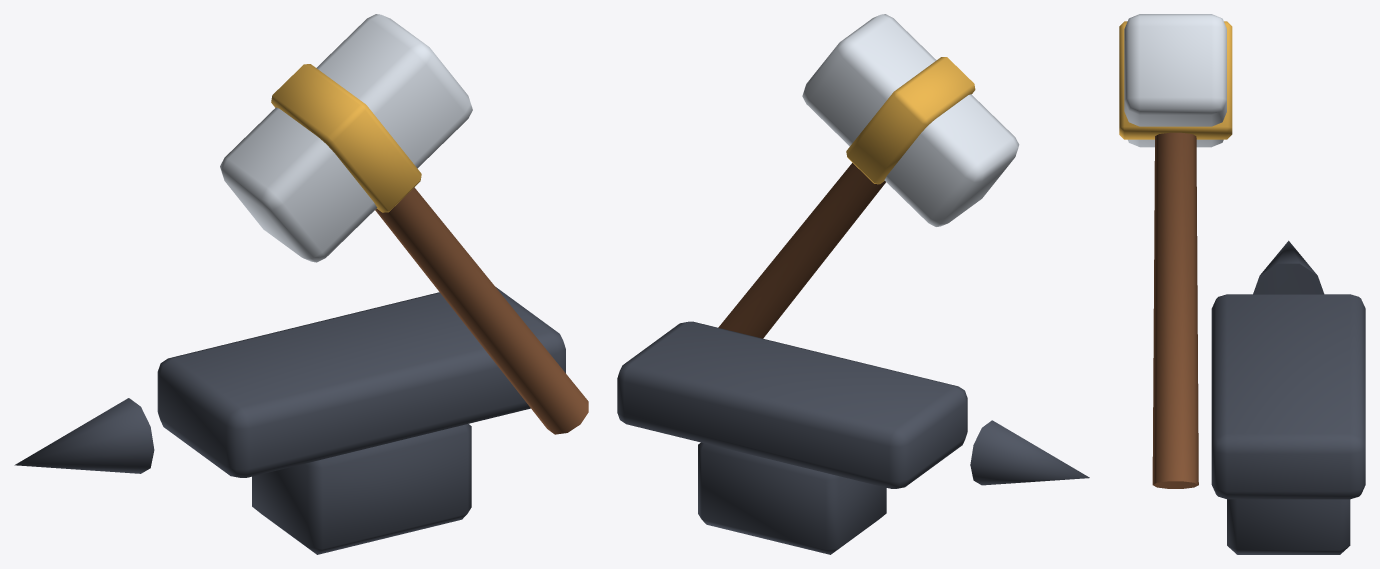
The model's file is icon_hammer.glb.
The picture shows the model from 3 angles, left to right: view 1: azimuth 30°, elevation 25°; view 2: azimuth 150°, elevation 25°; view 3: azimuth 270°, elevation 25°; orthographic projection. The views are drawn at different scales.
Parts seen in each view (by area): view 1: Forge; view 2: Forge; view 3: Forge.
Boxes of the visible parts, <box> form: Forge: <box>14,14,588,554</box>; Forge: <box>617,14,1089,554</box>; Forge: <box>1119,14,1365,554</box>.
Size of the model in its own units: 1.07 by 1.07 by 0.48.
Materials: 1 (1 with a texture image).
